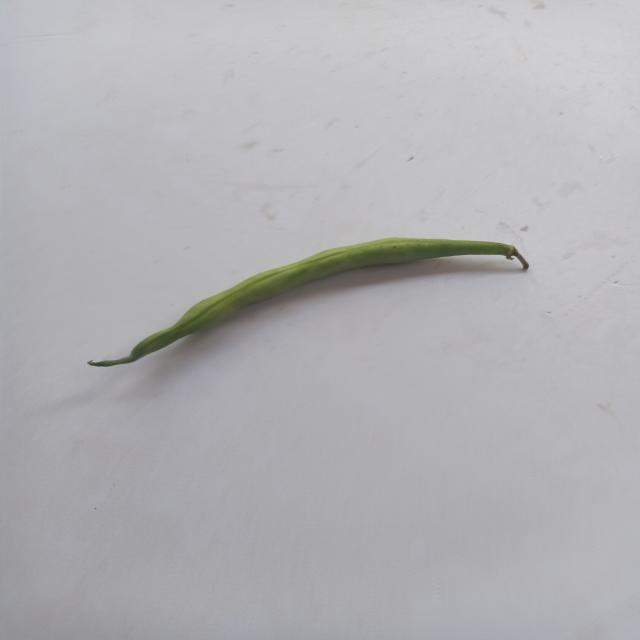Beans: (56, 226, 545, 398)
